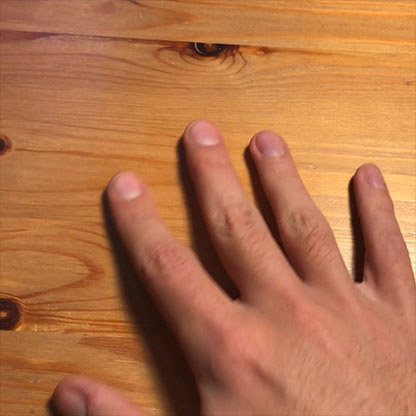fingertip: (246, 121, 299, 167), (180, 111, 229, 153), (103, 169, 147, 207), (356, 157, 393, 198)
